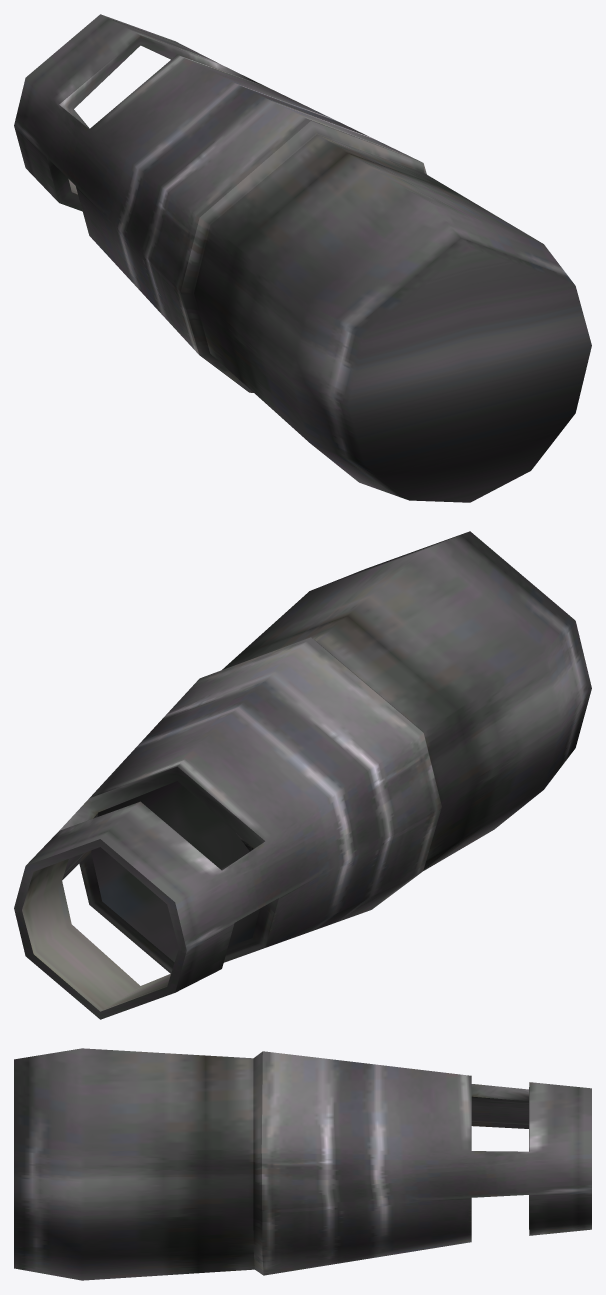
File: awing_booster_s01_l1.fbx
3 renders of one model, top to bottom at view 1: azimuth 30°, elevation 25°; view 2: azimuth 150°, elevation 25°; view 3: azimuth 270°, elevation 25°, orthographic. The views are drawn at different scales.
Visible parts, largest first — view 1: mesh_node; view 2: mesh_node; view 3: mesh_node.
Part boxes in pixels (bbox=[...]): mesh_node: bbox=[14, 14, 591, 502]; mesh_node: bbox=[14, 531, 591, 1019]; mesh_node: bbox=[14, 1048, 591, 1280].
Bounding box in the file's own units: 0.7562 × 0.7562 × 1.79.
